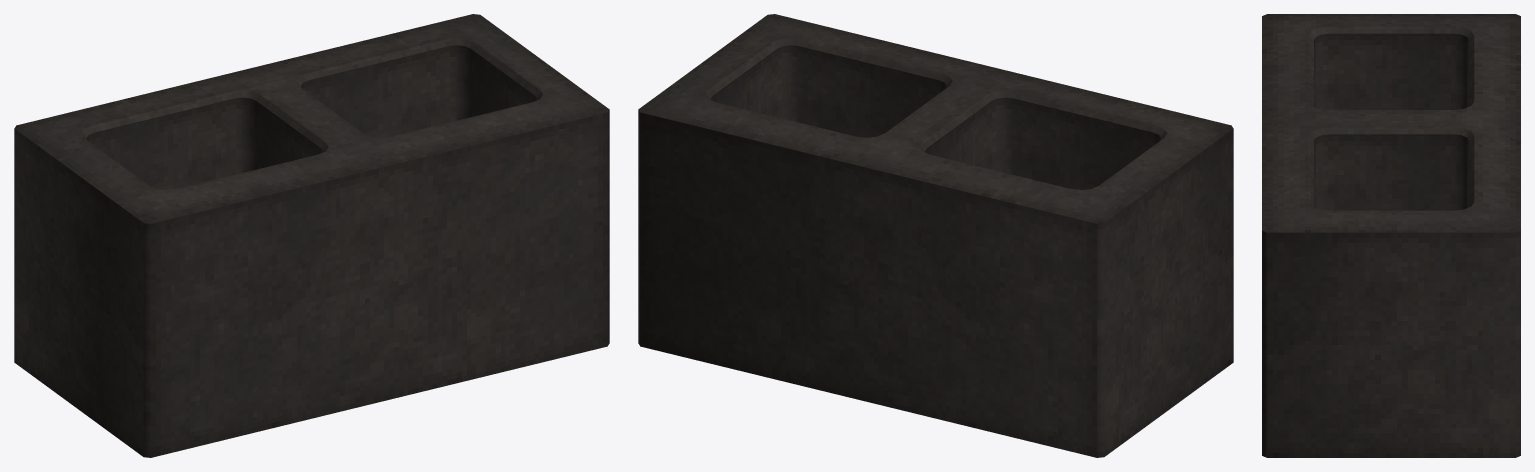
Rendered from concrete_block_1.glb.
3 views of the same model, side by side, from view 1: azimuth 30°, elevation 25°; view 2: azimuth 150°, elevation 25°; view 3: azimuth 270°, elevation 25° (orthographic). The views are drawn at different scales.
Visible parts, largest first — view 1: concrete_block_1; view 2: concrete_block_1; view 3: concrete_block_1.
Part boxes in pixels (x1=…): concrete_block_1: x1=14, y1=14, x2=609, y2=457; concrete_block_1: x1=638, y1=14, x2=1233, y2=457; concrete_block_1: x1=1262, y1=14, x2=1520, y2=457.
Size of the model in its own units: 0.432 by 0.216 by 0.216.
1 material, 1 textured.
